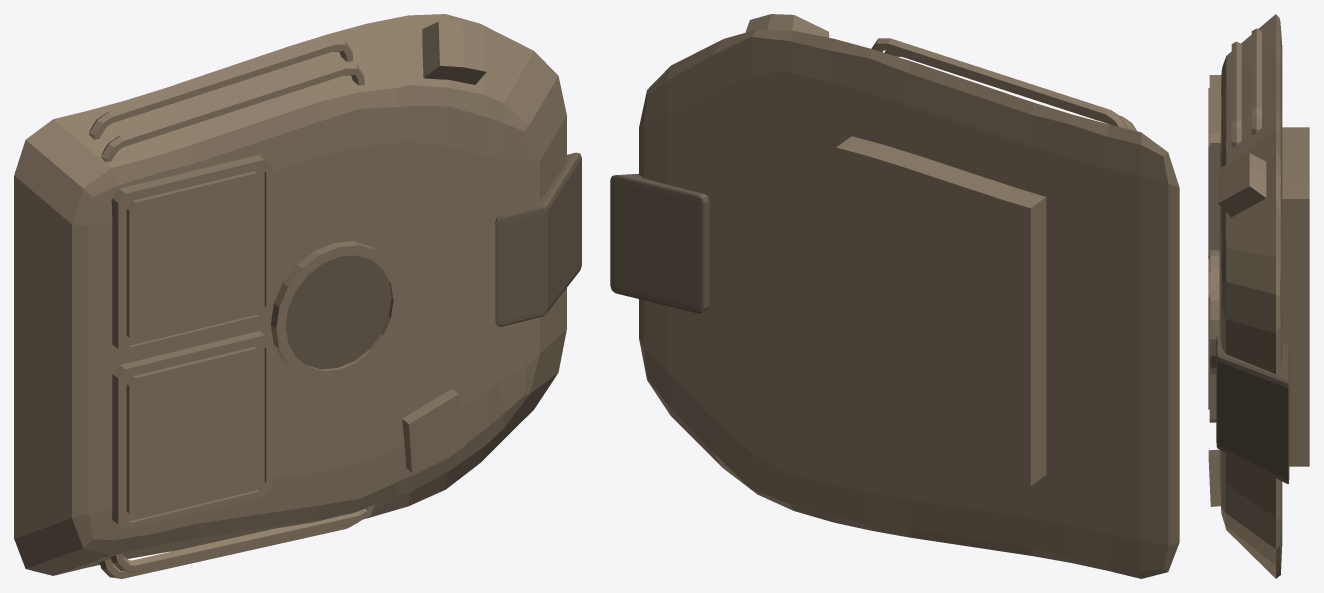
The model's file is Tank_2_Turret.glb.
3 views of the same model, side by side, from view 1: azimuth 30°, elevation 25°; view 2: azimuth 150°, elevation 25°; view 3: azimuth 270°, elevation 25° (orthographic). The views are drawn at different scales.
Parts seen in each view (by area): view 1: Tank_Turret_Cube; view 2: Tank_Turret_Cube; view 3: Tank_Turret_Cube.
Boxes of the visible parts, bbox=[...] form: Tank_Turret_Cube: bbox=[14, 14, 581, 578]; Tank_Turret_Cube: bbox=[610, 14, 1179, 578]; Tank_Turret_Cube: bbox=[1208, 14, 1309, 578].
Size of the model in its own units: 9.07 by 7.52 by 1.61.
